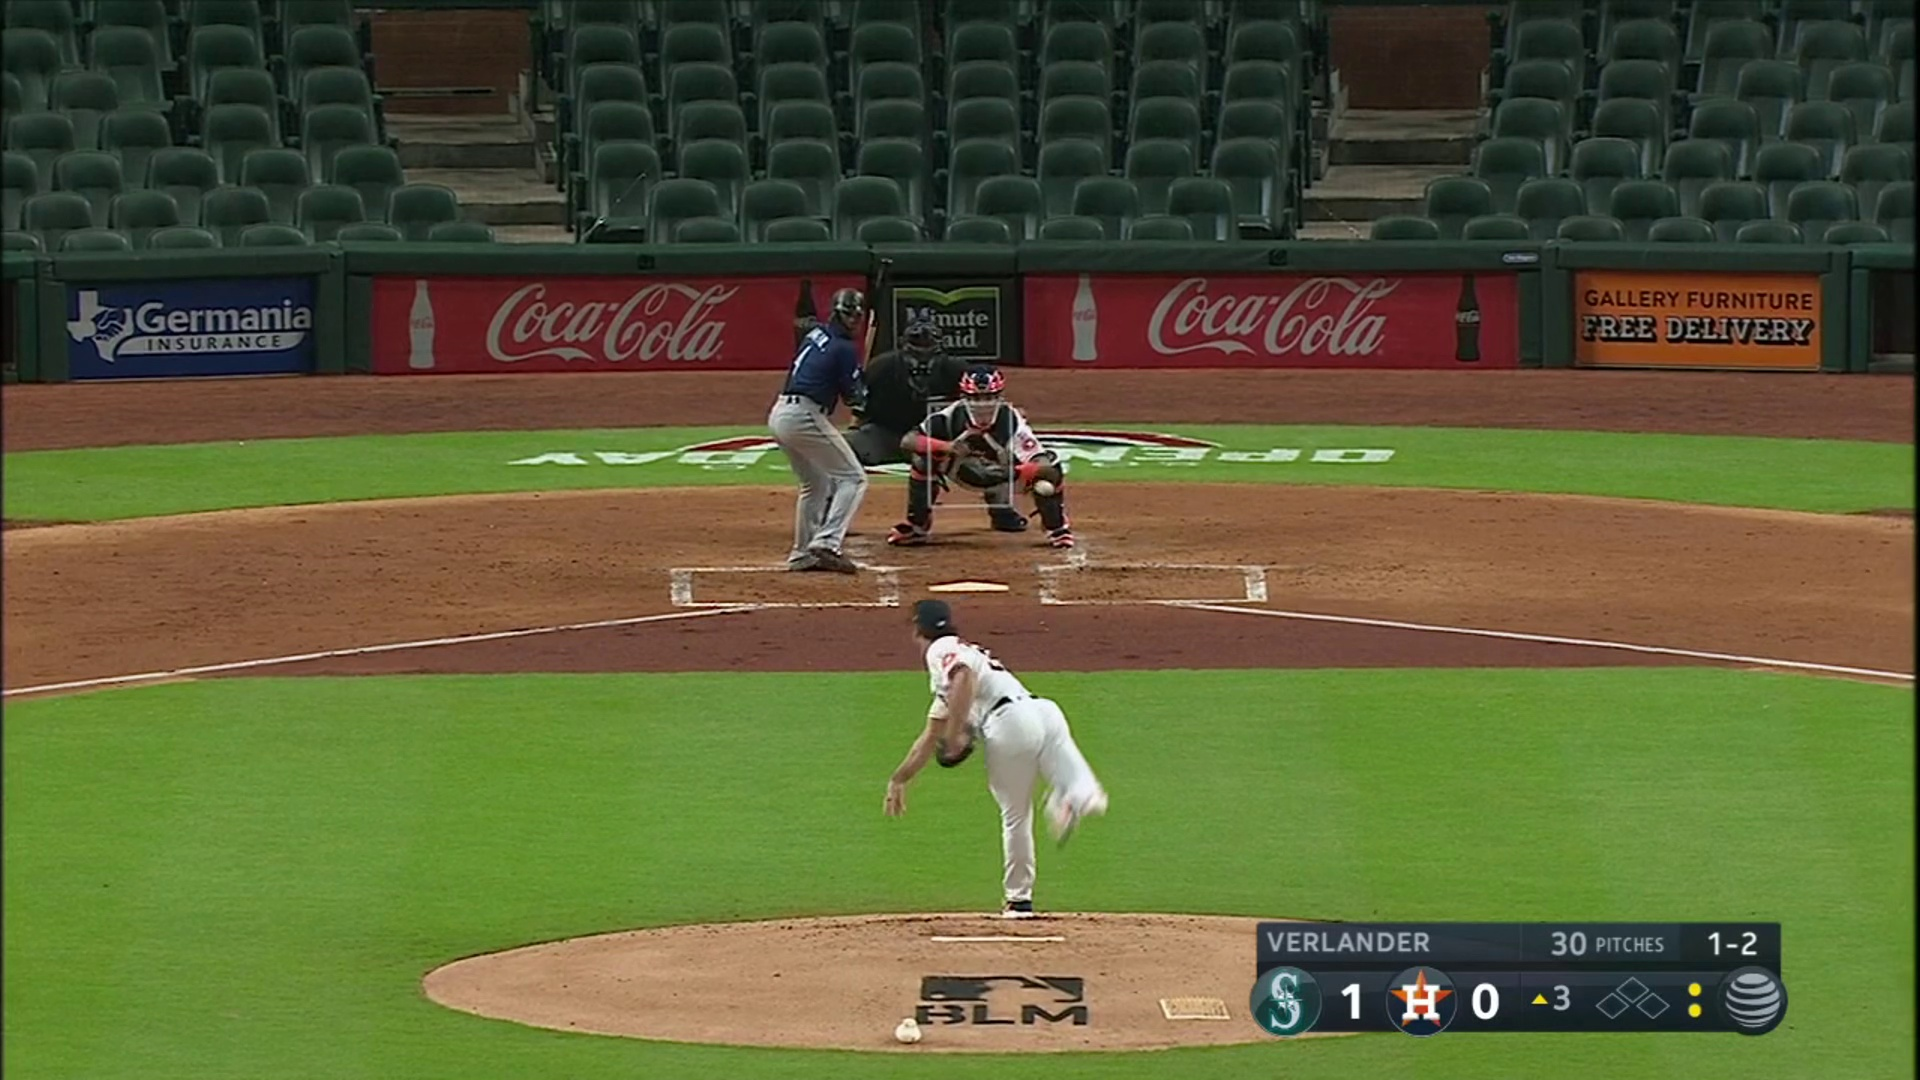baseball: (1033, 477, 1054, 496)
